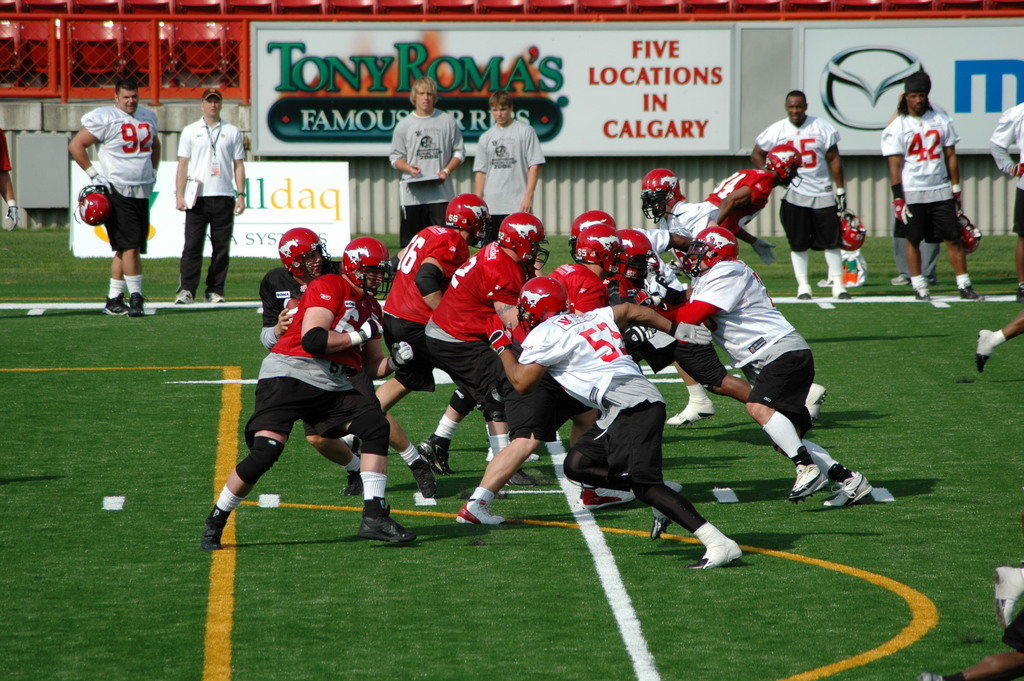Person: (0, 70, 1024, 681), (196, 140, 876, 571)
